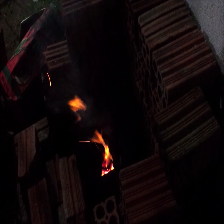fire_h: (92, 130, 116, 176)
fire_l: (68, 96, 87, 113), (47, 72, 52, 85), (79, 139, 90, 143), (78, 114, 82, 120)
